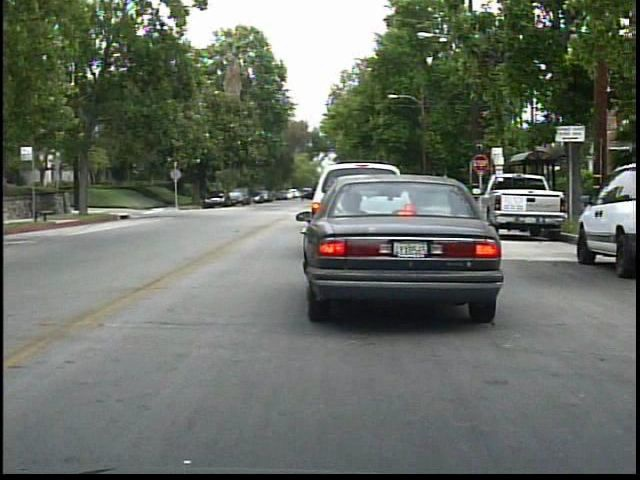person: (211, 179, 227, 204)
